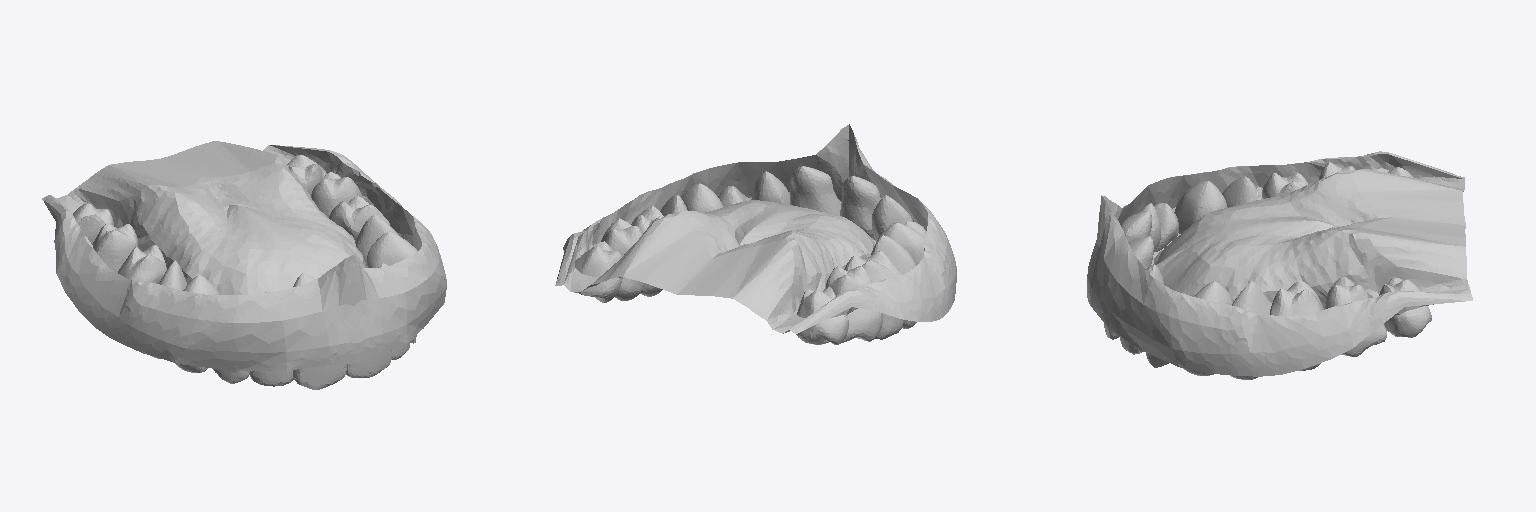
File: topTeeth.obj
The picture shows the model from 3 angles: view 1: azimuth 30°, elevation 25°; view 2: azimuth 150°, elevation 25°; view 3: azimuth 270°, elevation 25°; orthographic projection.
Visible parts, largest first — view 1: set1 set2 tweakSet2; view 2: set1 set2 tweakSet2; view 3: set1 set2 tweakSet2.
Boxes of the visible parts, <box> form: set1 set2 tweakSet2: <box>42,141,446,389</box>; set1 set2 tweakSet2: <box>555,124,956,344</box>; set1 set2 tweakSet2: <box>1087,151,1472,379</box>.
Bounding box in the file's own units: 0.0678 × 0.0245 × 0.0664.